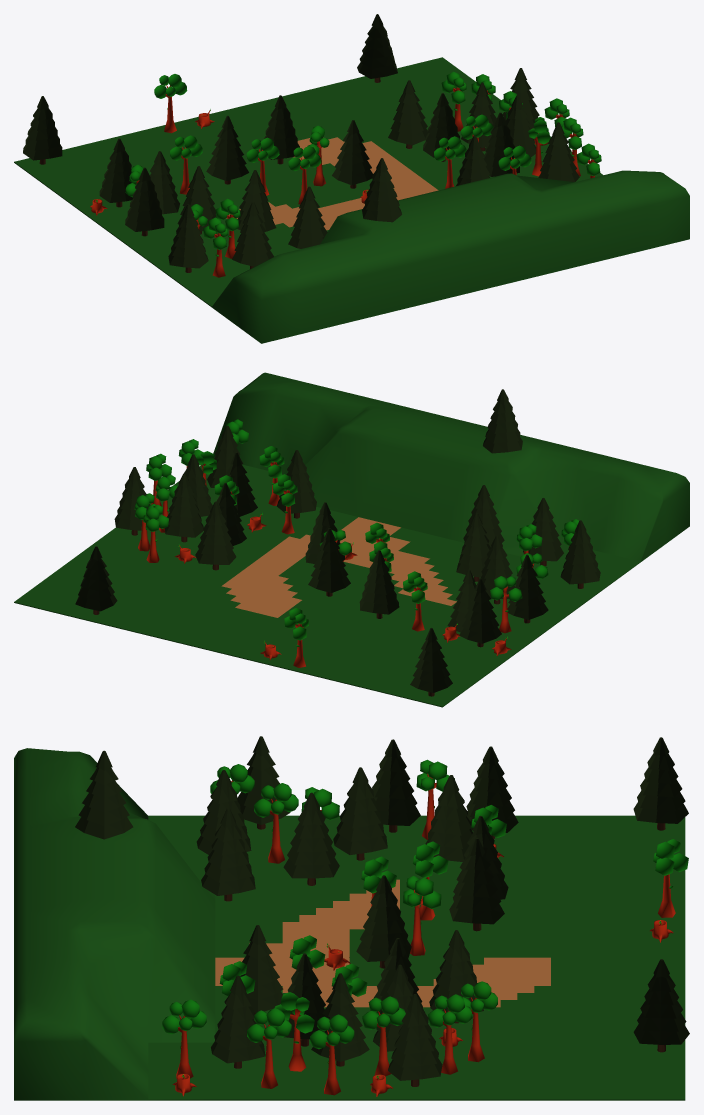
File: tutoriallvl.FBX
The picture shows the model from 3 angles, top to bottom: view 1: azimuth 30°, elevation 25°; view 2: azimuth 150°, elevation 25°; view 3: azimuth 270°, elevation 25°; orthographic projection. The views are drawn at different scales.
Visible parts, largest first — view 1: Box001; view 2: Box001; view 3: Box001.
Part boxes in pixels (<box>): Box001: <box>14,14,689,343</box>; Box001: <box>14,372,689,707</box>; Box001: <box>14,736,689,1100</box>.
Bounding box in the file's own units: 1271 × 381 × 1279.
